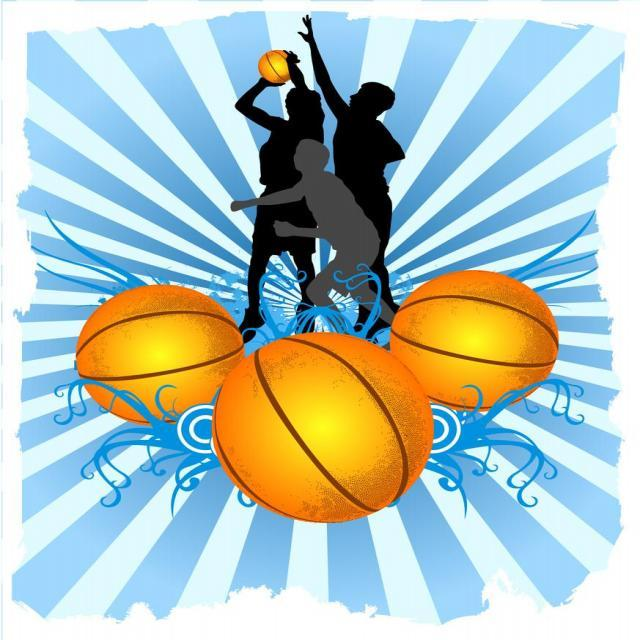rim: (216, 333, 434, 524), (84, 283, 245, 423)
